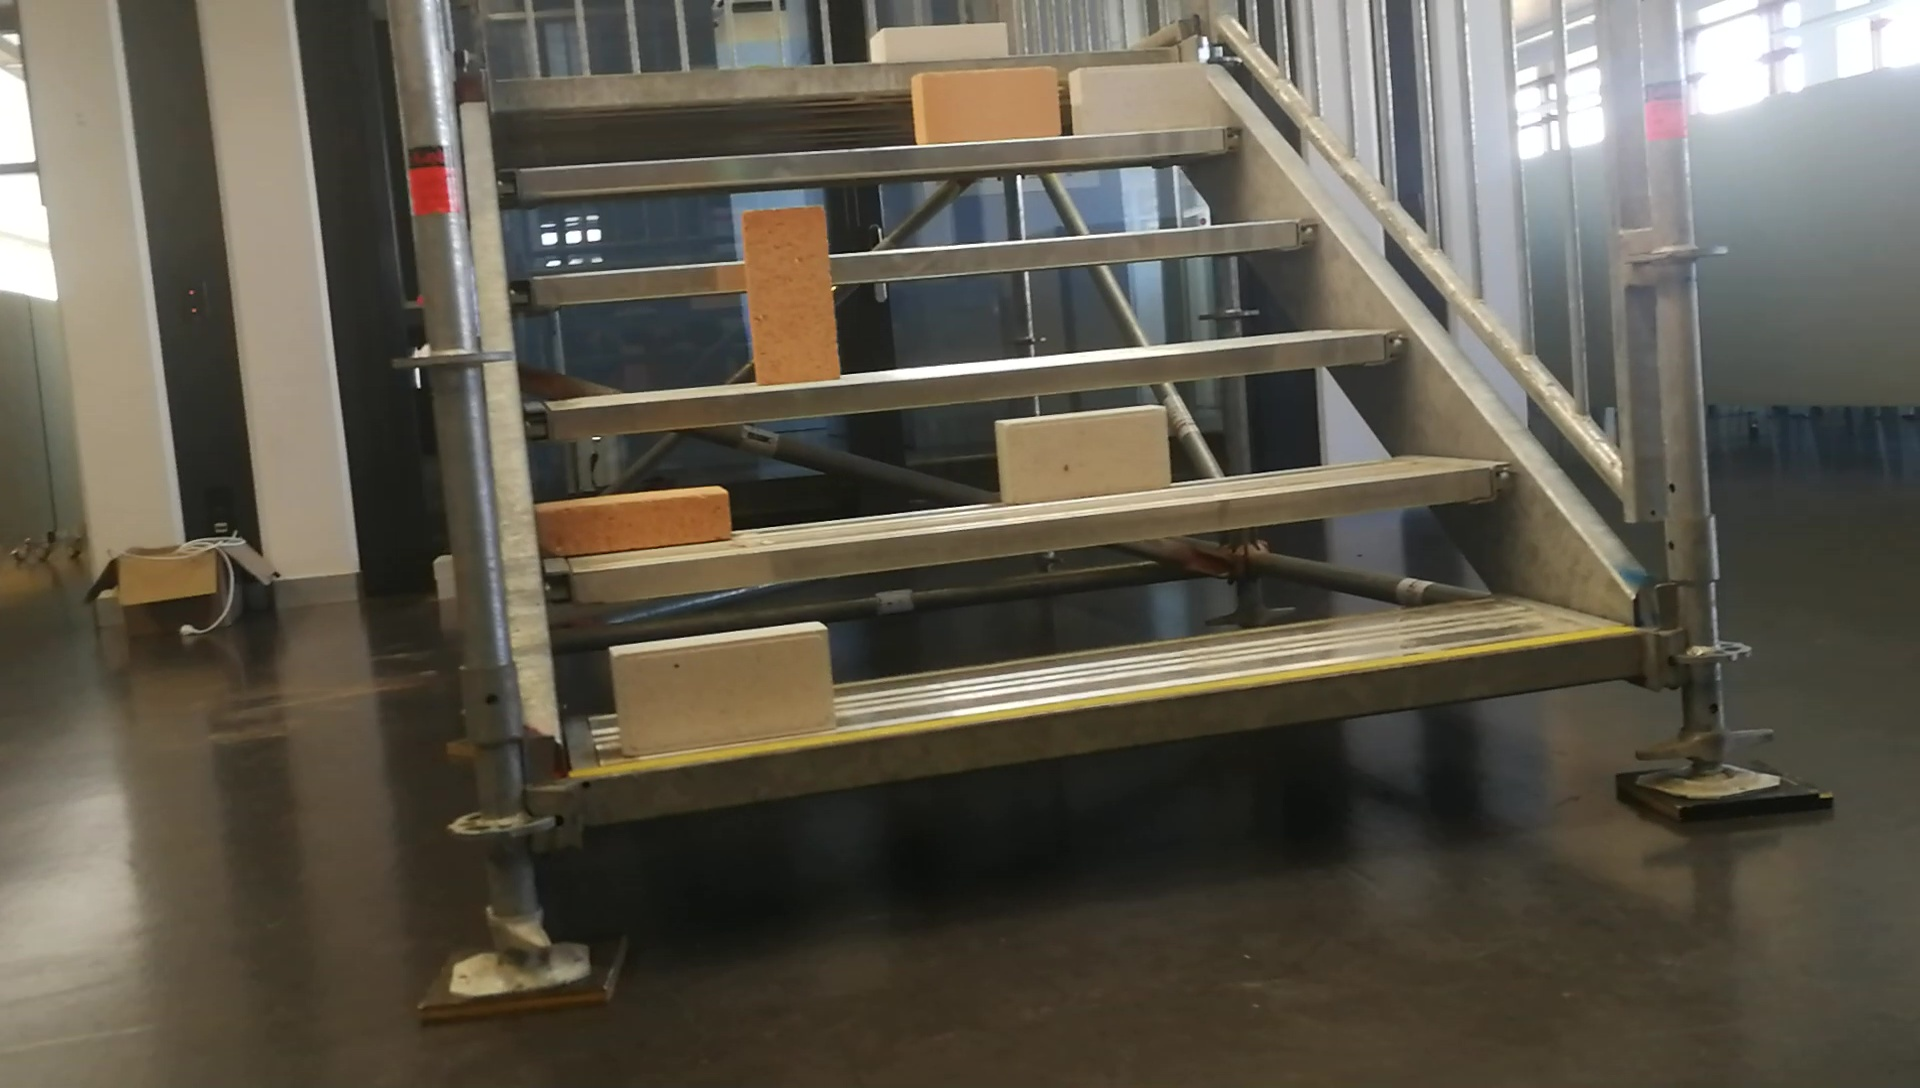brick: (611, 622, 831, 758), (996, 405, 1166, 502), (742, 207, 835, 382), (530, 483, 729, 557), (913, 66, 1054, 145), (1068, 66, 1207, 135), (868, 22, 1005, 61)
edge: (575, 634, 1647, 826), (545, 458, 1513, 595), (524, 330, 1408, 437), (512, 218, 1325, 306), (497, 123, 1241, 190)
stairs: (415, 15, 1836, 1015)
steps: (533, 11, 1662, 840)
